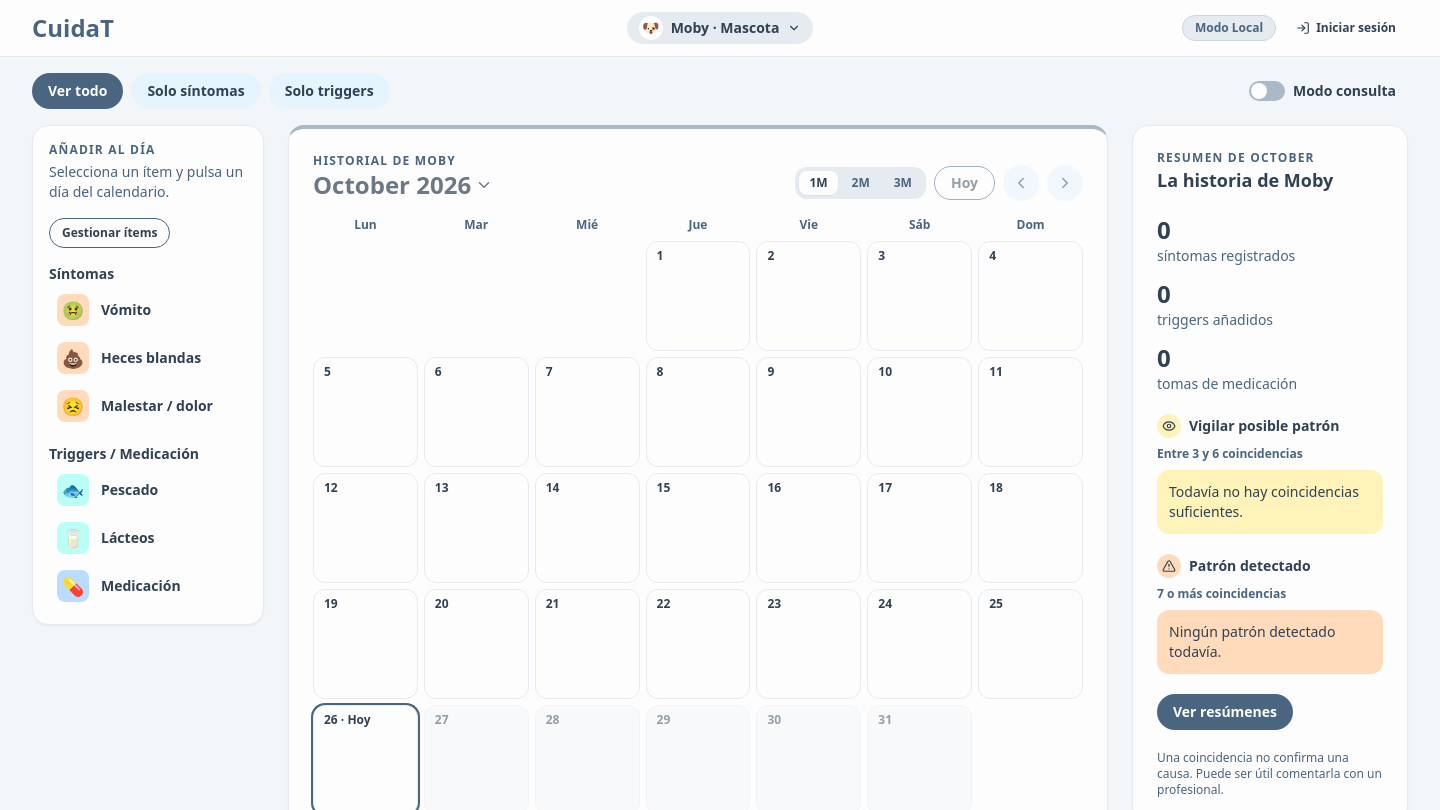
Test: App (Phase 4: calendars, navigation and analytics) › opens the correlation filter from «Ver resúmenes»
Click the button "Ver resúmenes": (1225, 712) [1157,694,1293,730]
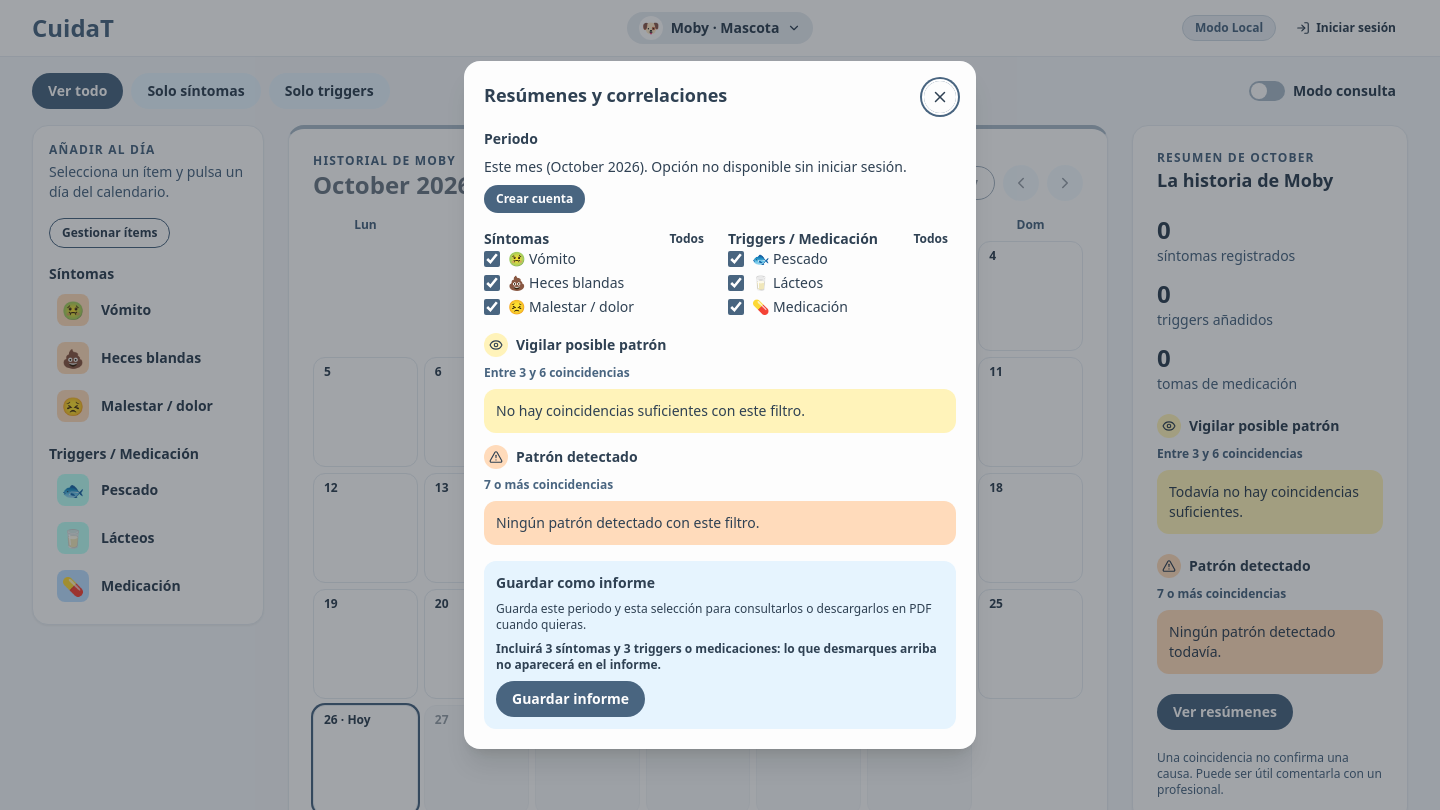
Now the dialog shows "Resúmenes y correlaciones", box [484,83,727,107]
Now the dialog shows "Opción no disponible sin iniciar sesión.", box [484,157,907,176]
Now the checkbox labelled "🤢 Vómito" is shown, box [484,251,500,267]
